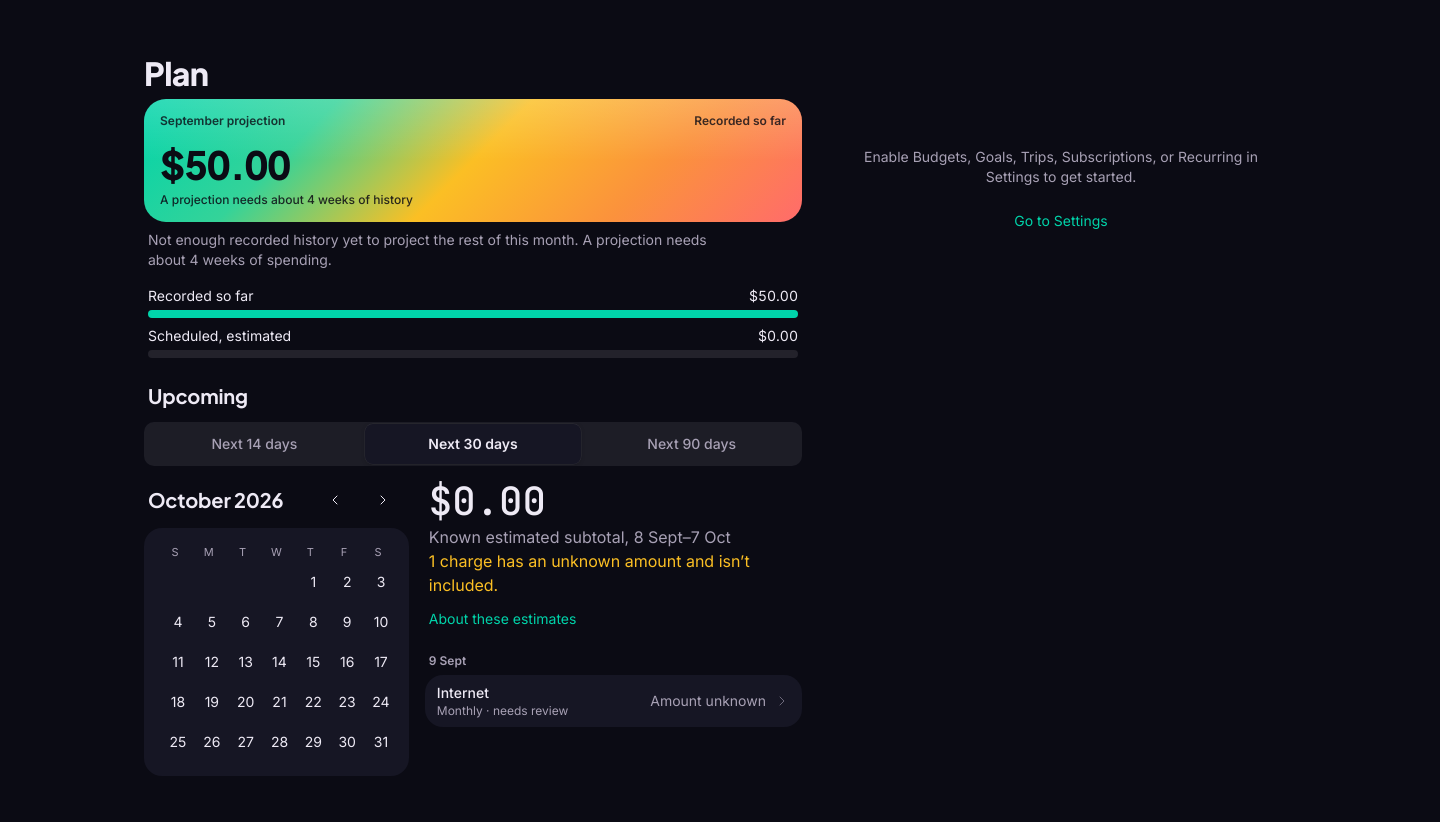
shows user provenance separately from estimated charges
Click the button "Internet Monthly · needs review Amount unknown" at (463, 692), box [425,675,802,727]
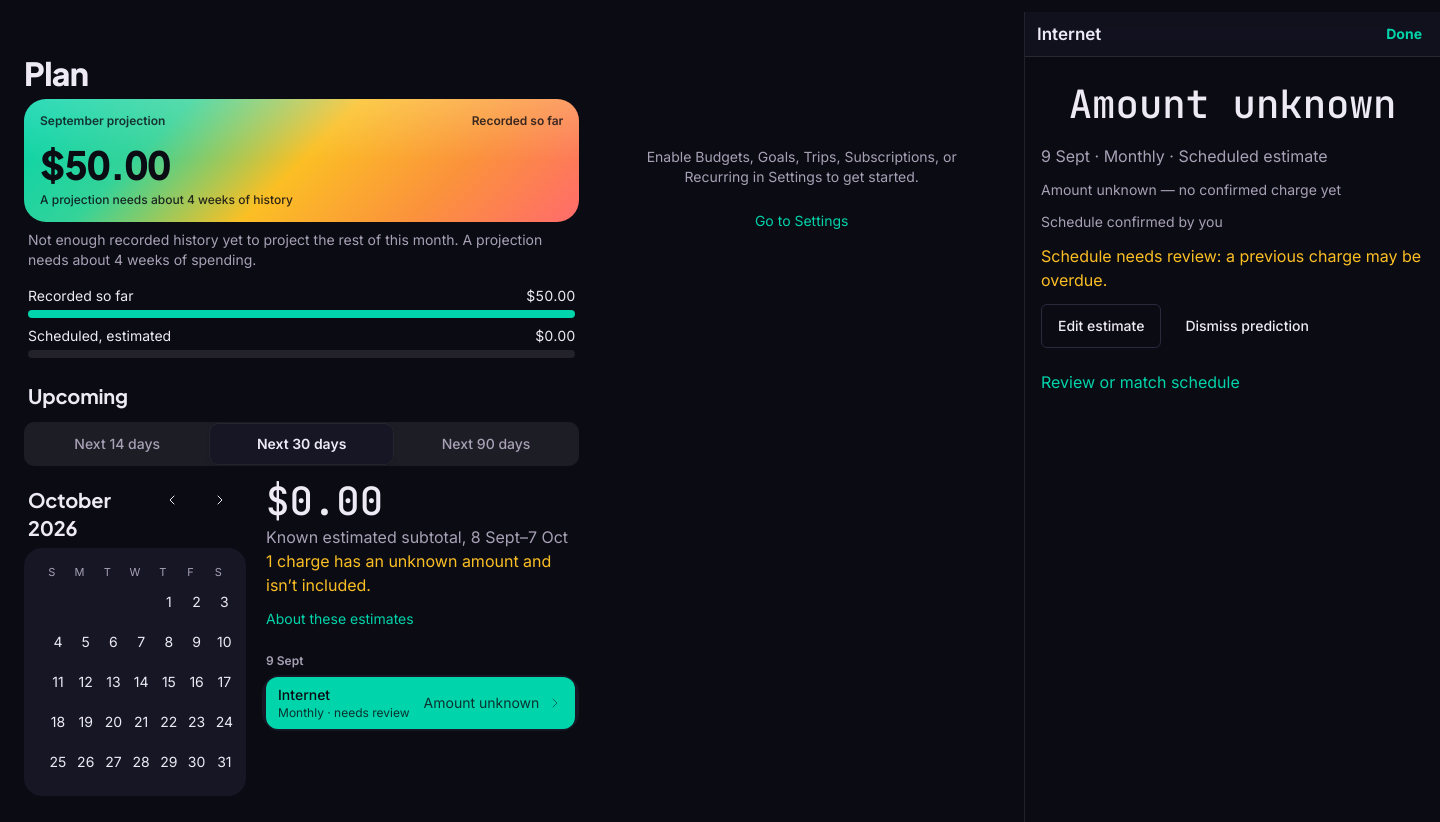
Now the text "Schedule confirmed by you" is shown, box [1041,213,1223,230]
